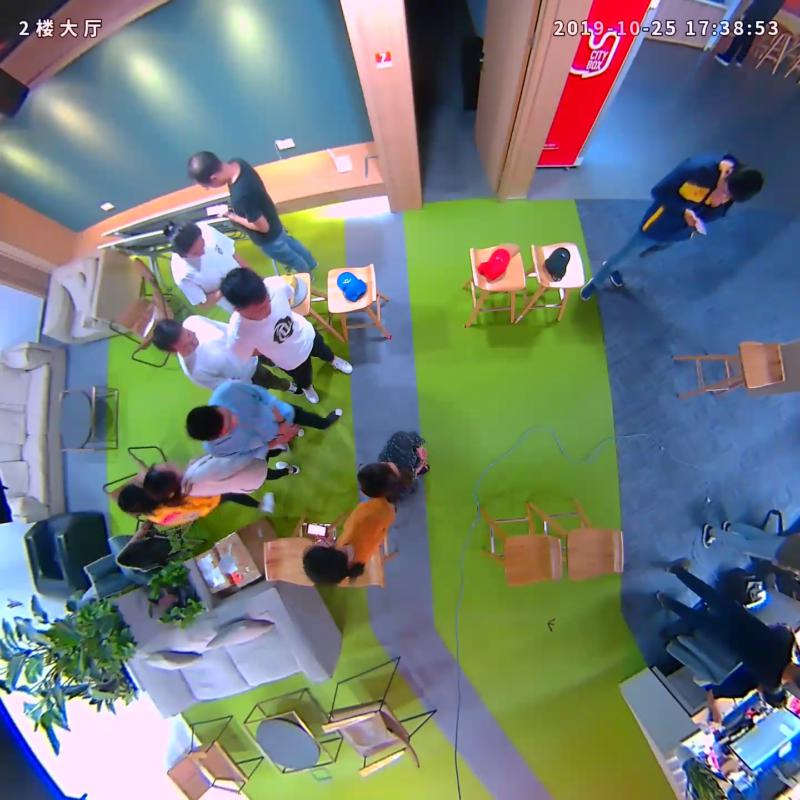head: (219, 267, 271, 318), (302, 546, 347, 587), (187, 405, 238, 441), (715, 168, 763, 203), (357, 461, 400, 499), (186, 149, 227, 188), (143, 463, 183, 501), (168, 221, 207, 259), (152, 318, 189, 355), (117, 484, 148, 518)
